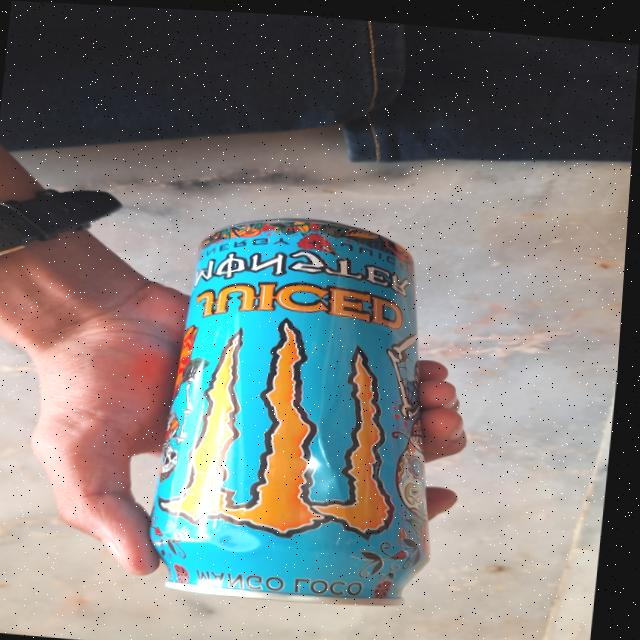Monster Mango Loco: (138, 205, 455, 609)
